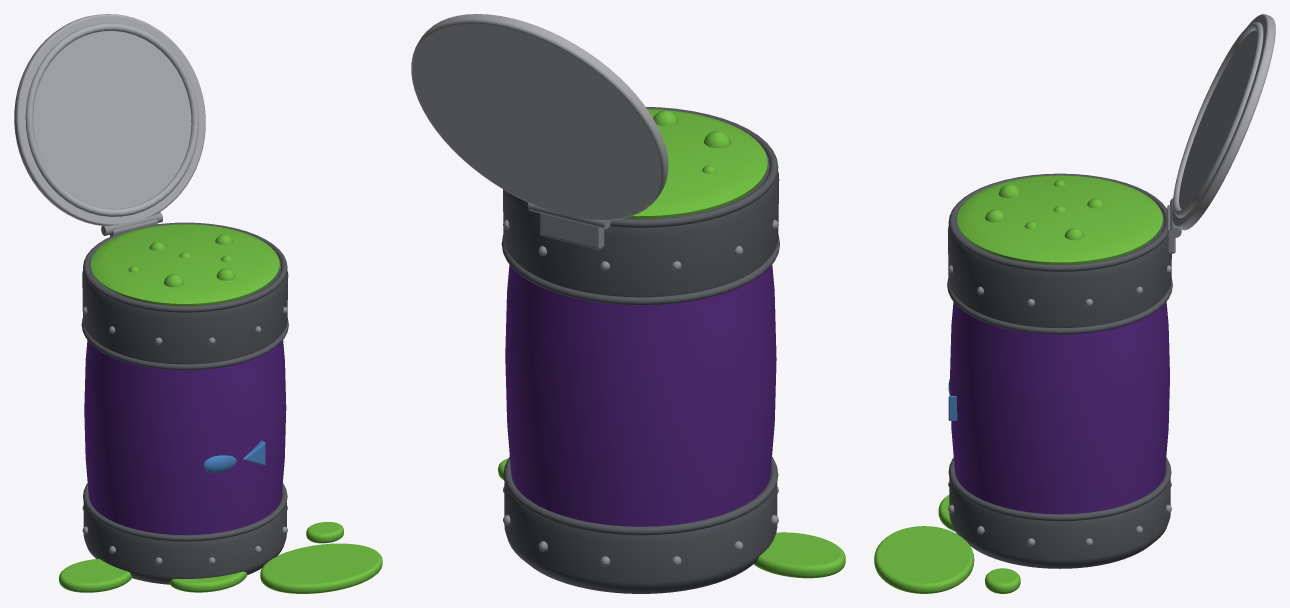
The model's file is gen_toxic_can.glb.
3 views of the same model, side by side, from view 1: azimuth 30°, elevation 25°; view 2: azimuth 150°, elevation 25°; view 3: azimuth 270°, elevation 25° (orthographic). The views are drawn at different scales.
Visible parts, largest first — view 1: gen_toxic_can; view 2: gen_toxic_can; view 3: gen_toxic_can.
Part boxes in pixels (x1,y1,x2,y2): gen_toxic_can: [14, 14, 382, 593]; gen_toxic_can: [411, 14, 845, 593]; gen_toxic_can: [874, 14, 1275, 593].
Size of the model in its own units: 0.47 by 0.7722 by 0.5619.
1 material, 1 textured.
